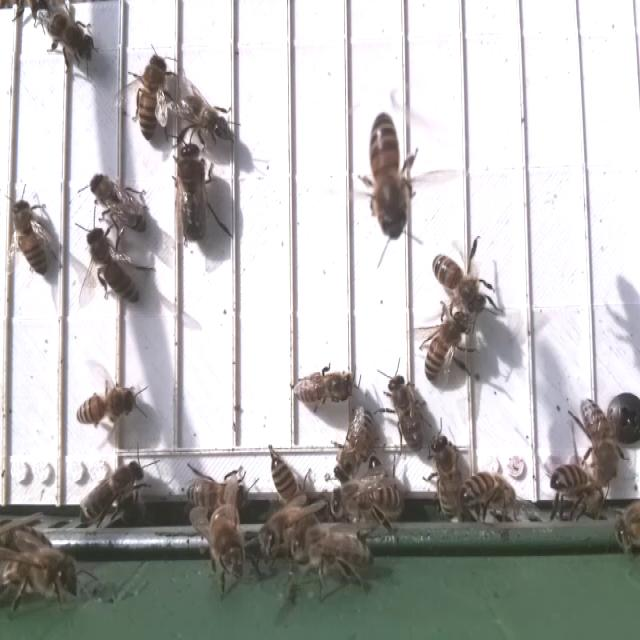Drone: (173, 141, 212, 244)
Worker: (367, 109, 412, 243), (83, 223, 143, 309), (78, 459, 146, 524), (89, 171, 152, 235), (429, 251, 489, 316), (578, 394, 619, 488), (333, 400, 377, 486), (10, 196, 54, 280), (135, 48, 172, 147), (422, 313, 470, 383), (387, 370, 425, 454), (550, 459, 607, 514), (289, 366, 358, 409), (77, 382, 137, 431), (430, 431, 462, 522), (457, 469, 518, 516), (185, 475, 246, 513), (269, 452, 304, 510)
